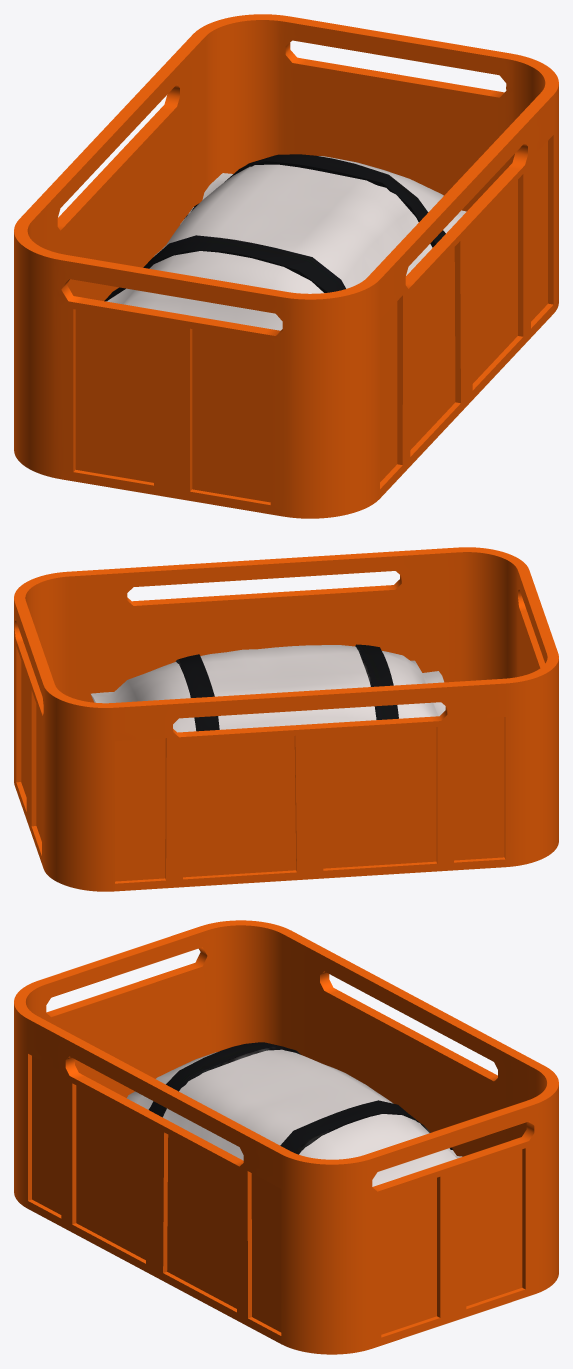
The model's file is crate_02_01.fbx.
The picture shows the model from 3 angles, top to bottom: view 1: azimuth 30°, elevation 25°; view 2: azimuth 150°, elevation 25°; view 3: azimuth 270°, elevation 25°; orthographic projection. The views are drawn at different scales.
Parts seen in each view (by area): view 1: crate, package; view 2: crate, package; view 3: crate, package.
Part boxes in pixels (x1,y1,x2,y2): crate: (14,14,558,518); package: (104,154,466,330); crate: (14,547,558,891); package: (91,644,445,732); crate: (14,920,558,1354); package: (127,1042,462,1186).
Bounding box in the file's own units: 95.35 × 37.27 × 89.92.
Materials: 2 (2 with a texture image).
